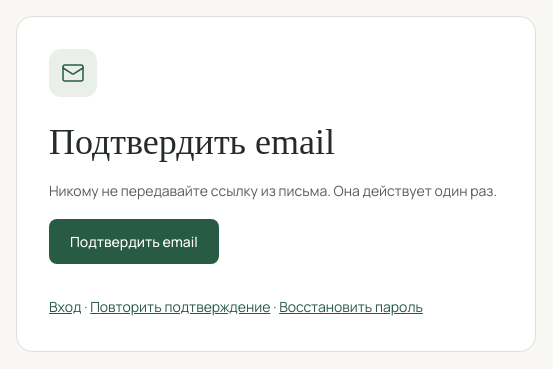
it: подтверждает email только после явного нажатия и удаляет токен из URL
This screenshot has width=553, height=369.
Click the button "Подтвердить email" at (134, 241), box 49,219 -> 219,264
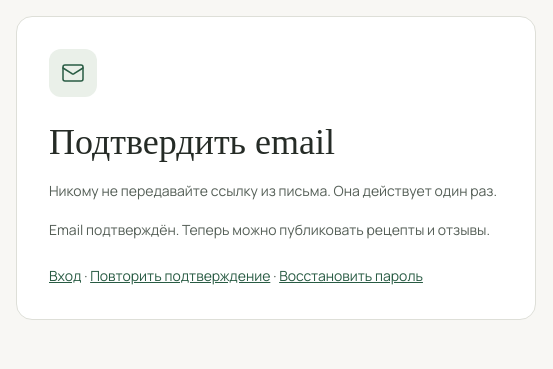
Expected: the message shows "Email подтверждён", 49,220 -> 490,239
